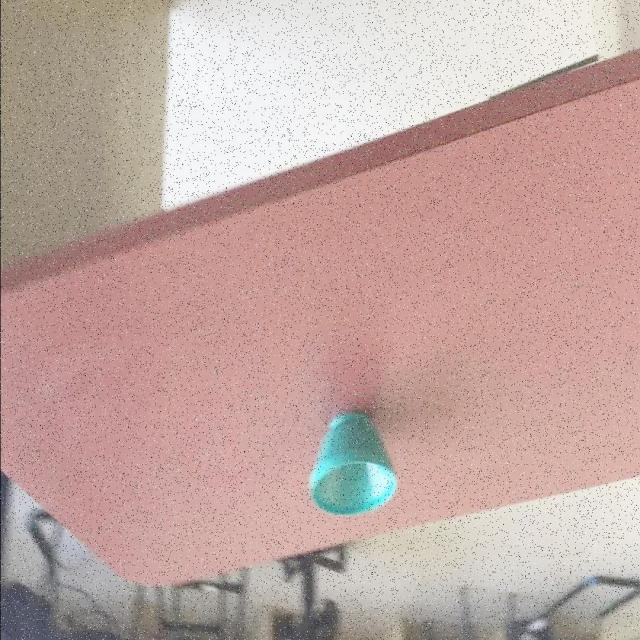Bowl: (0, 29, 640, 589), (308, 409, 398, 516)
